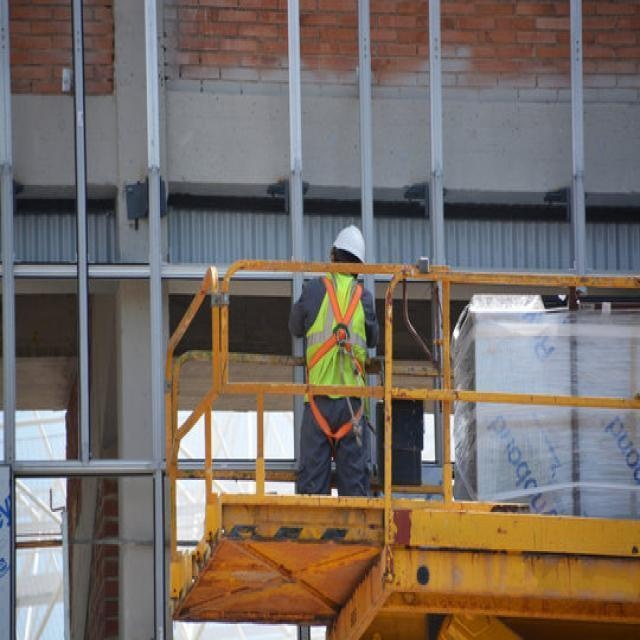Arnes_seguridad: (305, 276, 366, 451)
